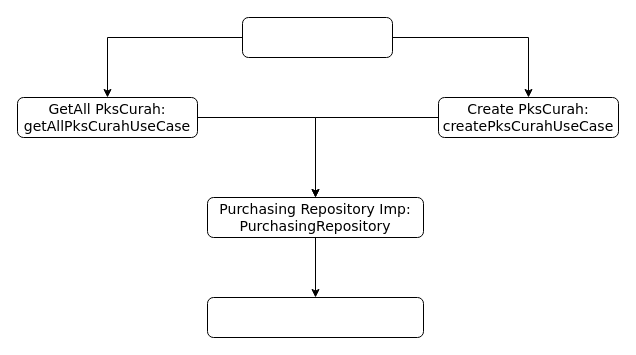
The diagram is 636 pixels wide and 355 high, and some of its shapes have lost their labels. Each missing label, with the centre of its shape:
PksCurah Data Source: PksCurahDataSource: (x=315, y=317)
Purchasing Router: (x=317, y=37)
